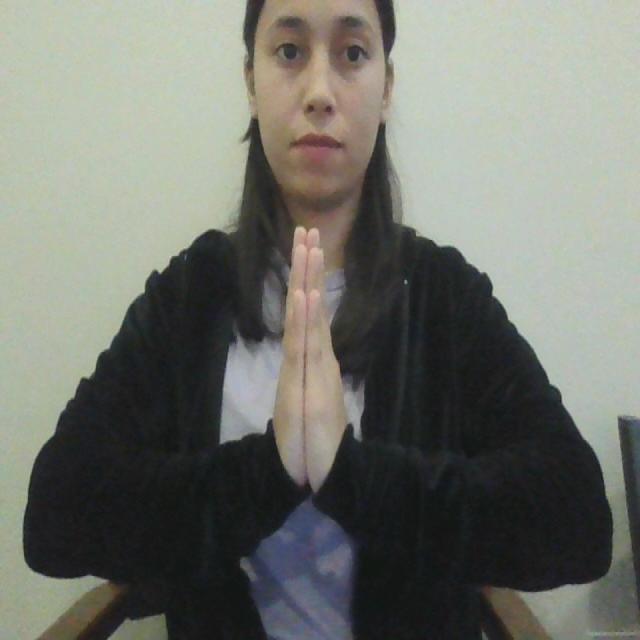Ozur-Dilemek: (268, 222, 353, 503)
